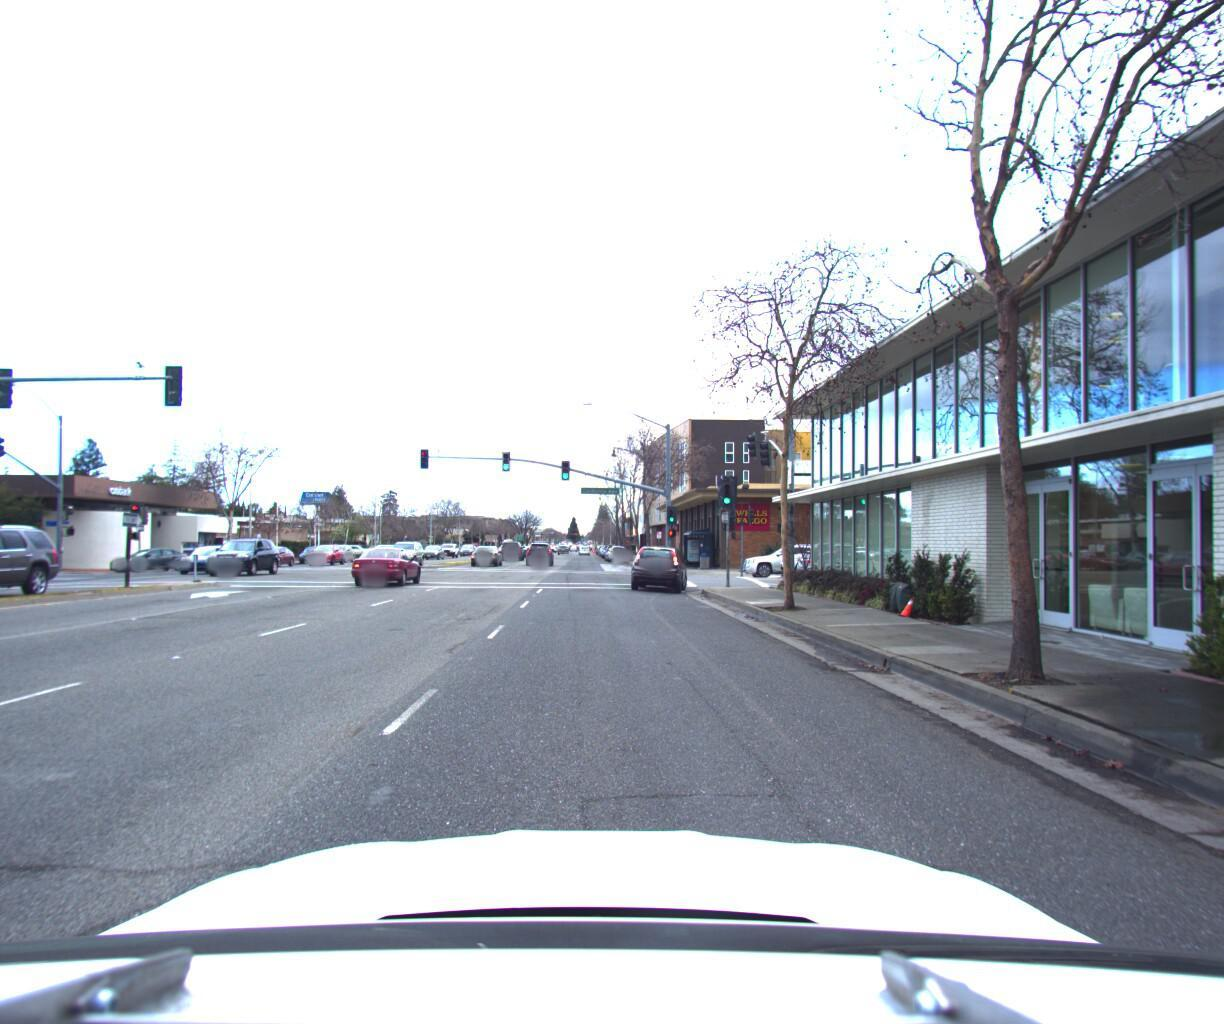car: (0, 519, 61, 600), (351, 537, 427, 581), (732, 537, 825, 571), (204, 534, 285, 571), (627, 538, 687, 588), (172, 533, 247, 571), (106, 540, 192, 567), (379, 534, 429, 561), (252, 534, 300, 560), (303, 533, 347, 558), (468, 537, 504, 559), (524, 534, 554, 559), (497, 529, 525, 550), (603, 535, 628, 554)
